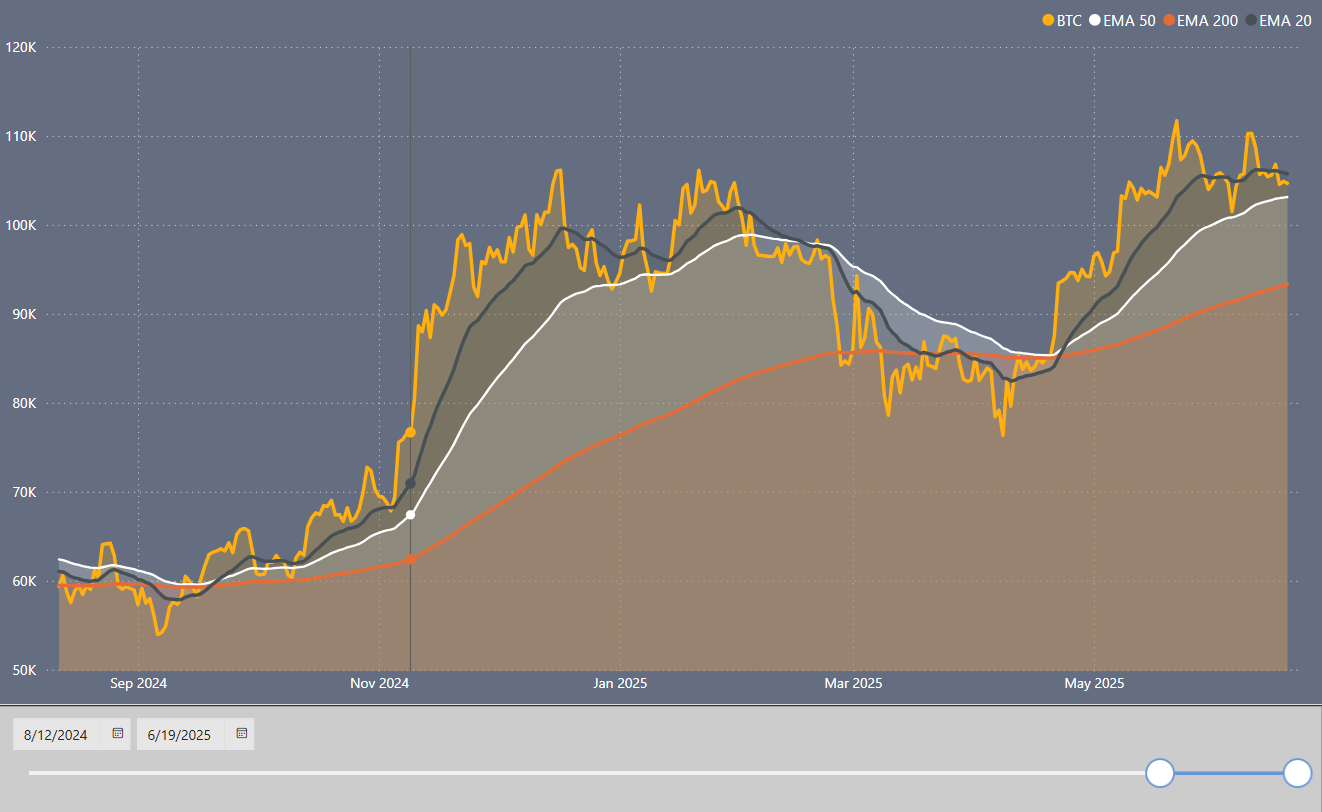

The dashboard page shown, as its layout file describes it:
{"tool":"powerbi","page":{"name":"Chart","canvas":[1280,720],"ordinal":0},"visuals":[{"type":"lineChart","fields":{"Category":["raw_ohlcv_emas.date.Variación.Jerarquía de fechas.Año","raw_ohlcv_emas.date.Variación.Jerarquía de fechas.Trimestre","raw_ohlcv_emas.date.Variación.Jerarquía de fechas.Mes","raw_ohlcv_emas.date.Variación.Jerarquía de fechas.Día"],"Y":["Sum(raw_ohlcv_emas.close)","Sum(raw_ohlcv_emas.EMA_50)","Sum(raw_ohlcv_emas.EMA_200)","Sum(raw_ohlcv_emas.EMA_20)"]},"box":[50.1,11,1139.7,609],"z":0},{"type":"slicer","fields":{"Values":["raw_ohlcv_emas.date"]},"box":[50,620,1140,100],"z":1000}]}

Visuals, with their boxes on the page's 1280x720 design canvas (x1, y1, x2, y2). These are canvas units, not pixel positions in the 1322x812 screenshot, which may show the page scaled, cropped or inside an application window:
lineChart - raw_ohlcv_emas.date.Variación.Jerarquía de fechas.Año x raw_ohlcv_emas.date.Variación.Jerarquía de fechas.Trimestre: pyautogui.locateOnScreen(50, 11, 1190, 620)
slicer - raw_ohlcv_emas.date: pyautogui.locateOnScreen(50, 620, 1190, 720)
